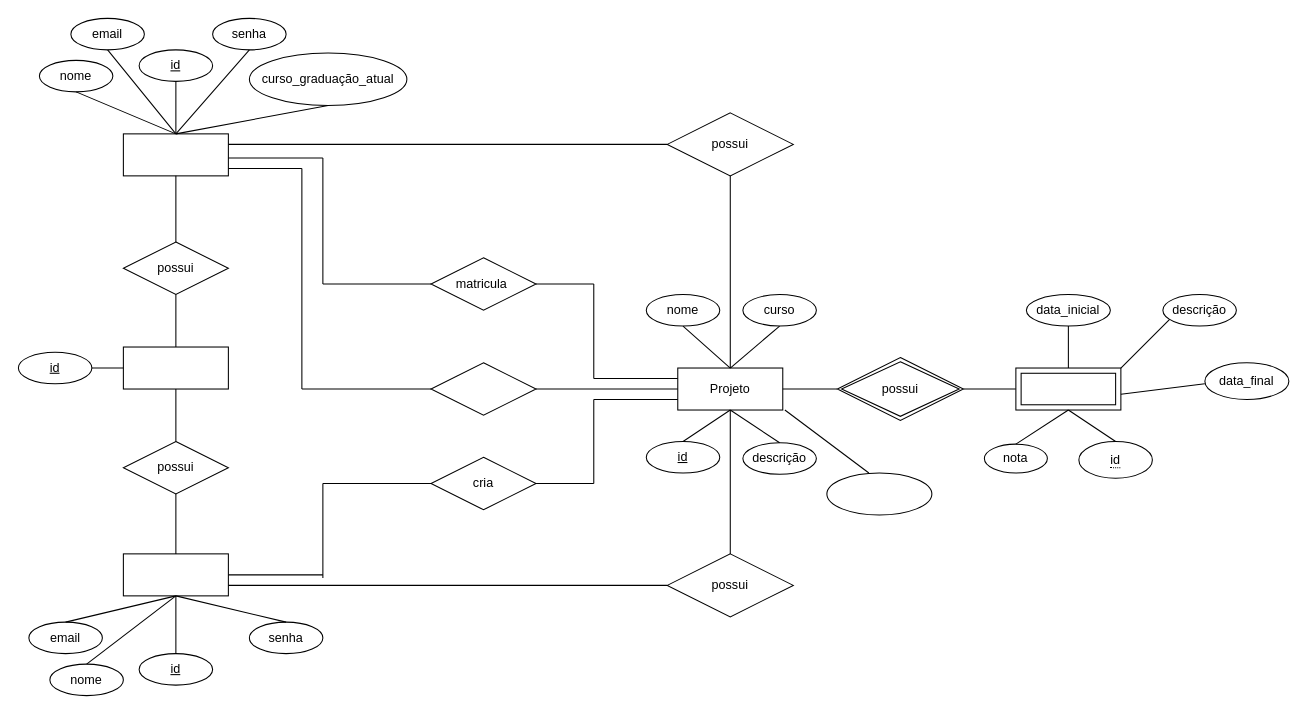
The diagram is 1307 pixels wide and 714 high, and some of its shapes have lost their labels. Each missing label, with the box of its shape:
Aluno: (122, 133, 228, 176)
favorita: (430, 362, 536, 415)
numero_vagas: (826, 472, 932, 515)
Orientador: (122, 553, 228, 596)
tarefa: (1015, 367, 1121, 410)
Turma: (122, 346, 228, 389)
